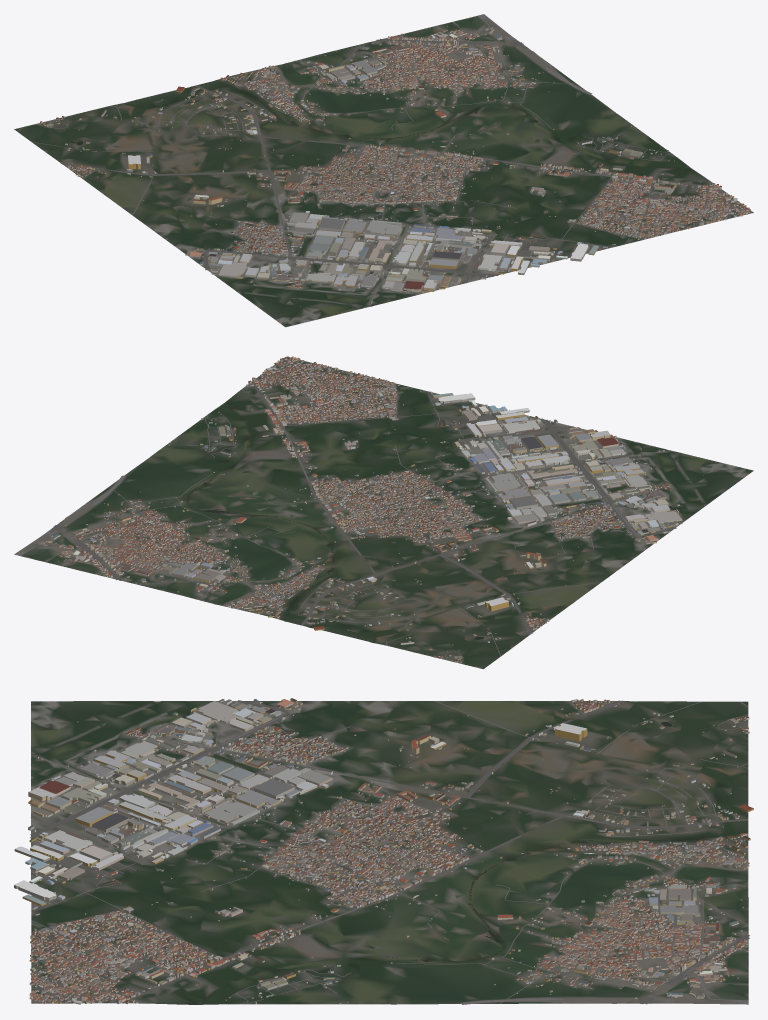
The picture shows the model from 3 angles, top to bottom: view 1: azimuth 30°, elevation 25°; view 2: azimuth 150°, elevation 25°; view 3: azimuth 270°, elevation 25°; orthographic projection. The views are drawn at different scales.
Visible parts, largest first — view 1: ground, buildings, roads, water; view 2: ground, buildings, roads, water; view 3: ground, buildings, roads, water.
Part boxes in pixels (bbox=[...]): ground: bbox=[14, 15, 753, 327]; buildings: bbox=[39, 26, 750, 306]; roads: bbox=[17, 14, 751, 307]; water: bbox=[70, 81, 691, 278]; ground: bbox=[19, 356, 753, 669]; buildings: bbox=[38, 356, 703, 662]; roads: bbox=[14, 357, 676, 667]; water: bbox=[187, 403, 672, 642]; ground: bbox=[31, 701, 748, 1004]; buildings: bbox=[14, 698, 753, 1004]; roads: bbox=[30, 700, 749, 1004]; water: bbox=[183, 714, 746, 1004].
Size of the model in its own units: 2817 by 39.19 by 2892.
